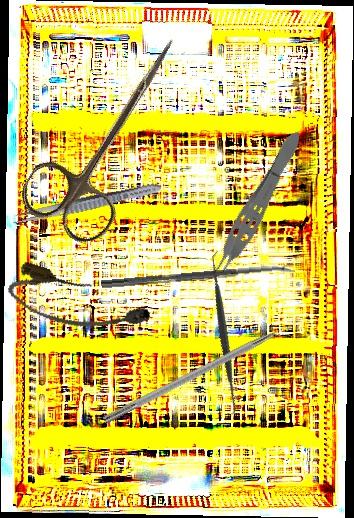Cannula: (3, 258, 155, 350)
Dressing Forceps: (10, 179, 163, 229)
Hook Surgical: (101, 313, 309, 426)
Iris Scissors: (13, 12, 209, 253)
Spatula Surgical: (140, 249, 308, 417)
Surgical Spoon: (100, 263, 296, 290)
Tissue Forceps: (195, 124, 311, 294)
